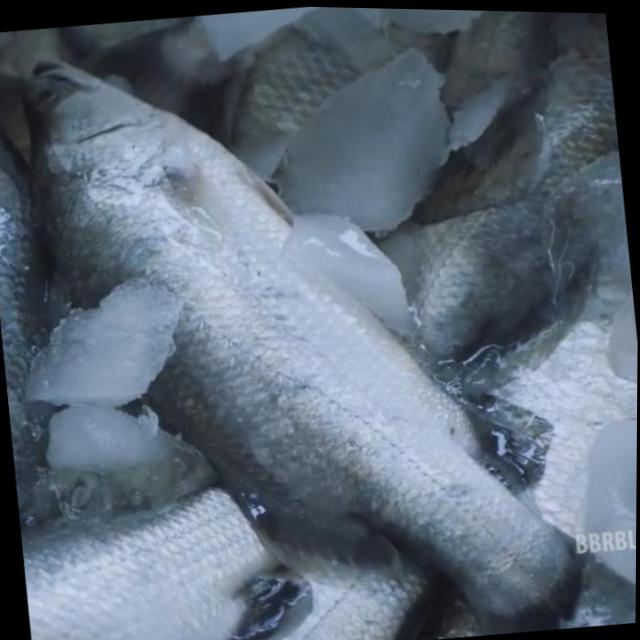Seabass: (4, 0, 640, 640)
